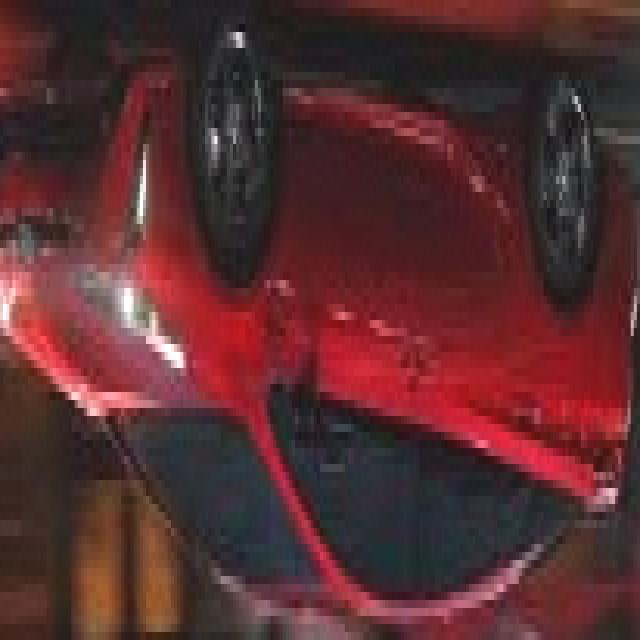red: (4, 44, 640, 611)
